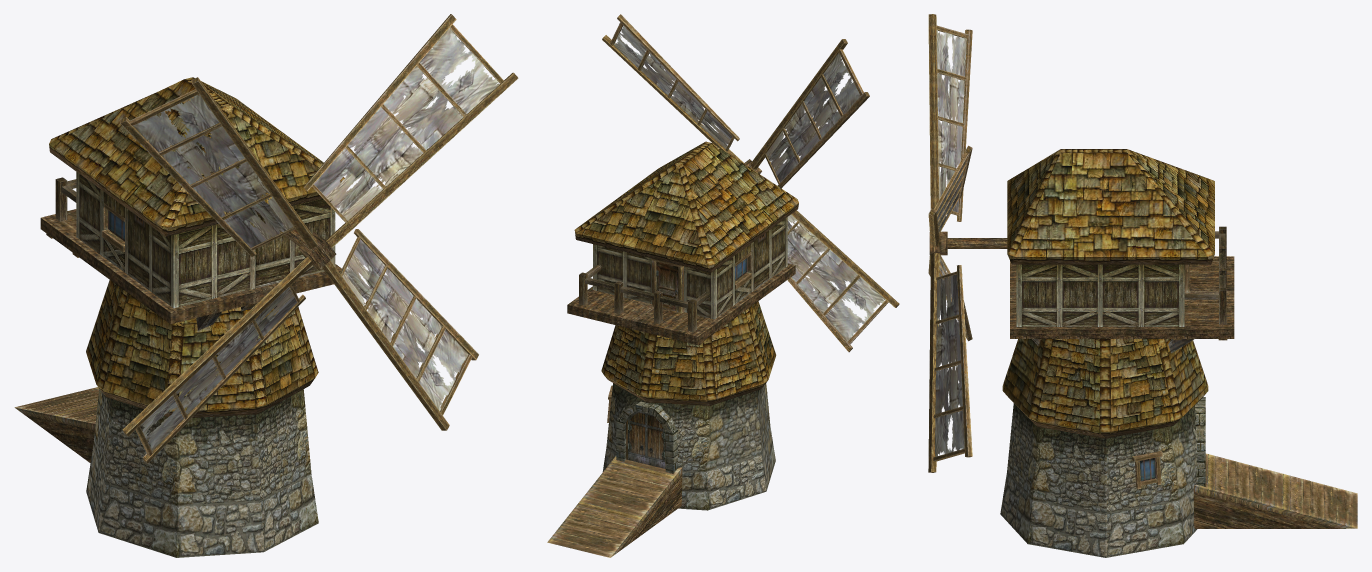
Rendered from mel_2.glb.
3 renders of one model, left to right at view 1: azimuth 30°, elevation 25°; view 2: azimuth 150°, elevation 25°; view 3: azimuth 270°, elevation 25°, orthographic. The views are drawn at different scales.
Visible parts, largest first — view 1: mel_2; view 2: mel_2; view 3: mel_2.
Part boxes in pixels (x1,y1,x2,y2): mel_2: (14,14,518,557); mel_2: (547,14,899,557); mel_2: (928,14,1357,557).
Bounding box in the file's own units: 15.61 × 19.99 × 17.04.
20 materials, 20 textured.
